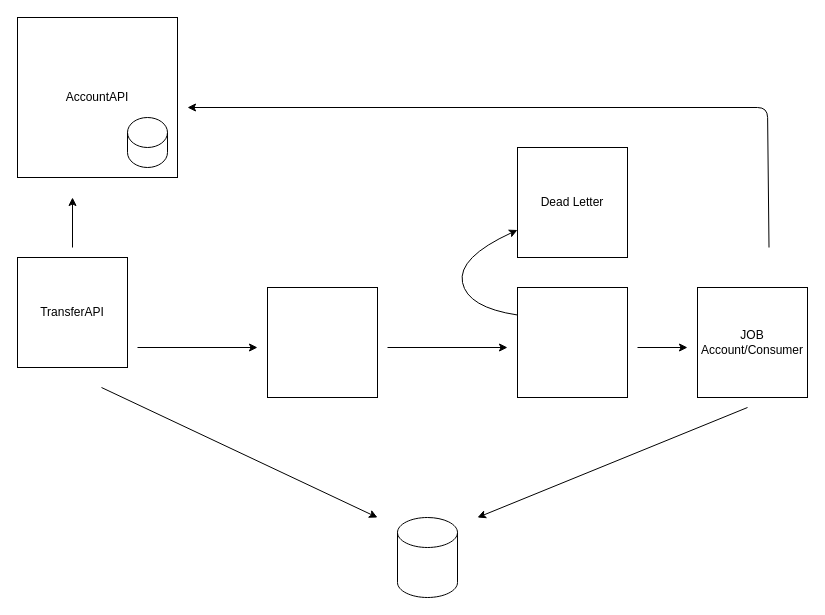
This 825x615 diagram has some shape labels left out. The shapes that lost their labels are listed below. From the top down, each one's centre as x and y in pixels, then its label:
At (322,342): "Exchange".
At (572,342): "FundTransfer Queue".
